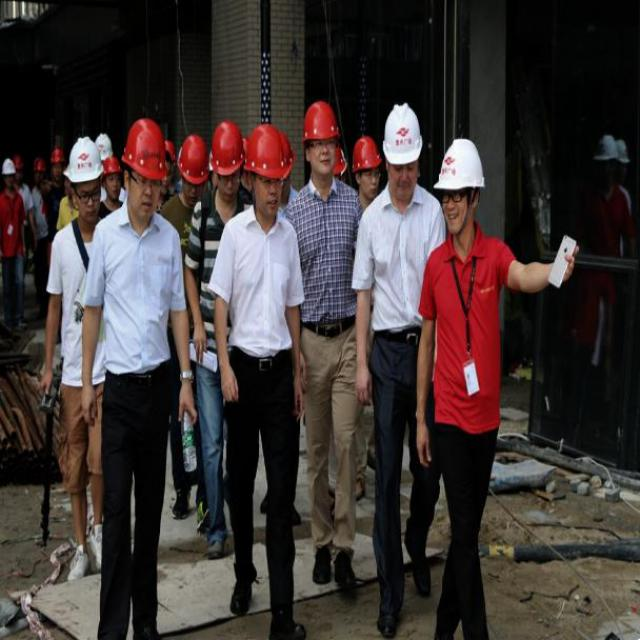helmet: (428, 122, 487, 242), (375, 85, 424, 206), (116, 122, 170, 219), (245, 112, 288, 232), (304, 78, 342, 211), (66, 132, 102, 220), (208, 110, 241, 203), (181, 121, 208, 207), (99, 152, 123, 204), (44, 144, 62, 178), (0, 152, 18, 184)
